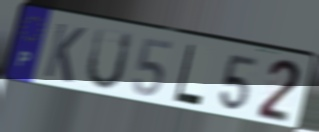2: (255, 58, 303, 126)
5: (130, 36, 175, 98), (218, 54, 261, 113)
K: (41, 21, 88, 86)
L: (171, 42, 204, 109)
U: (84, 26, 135, 92)
